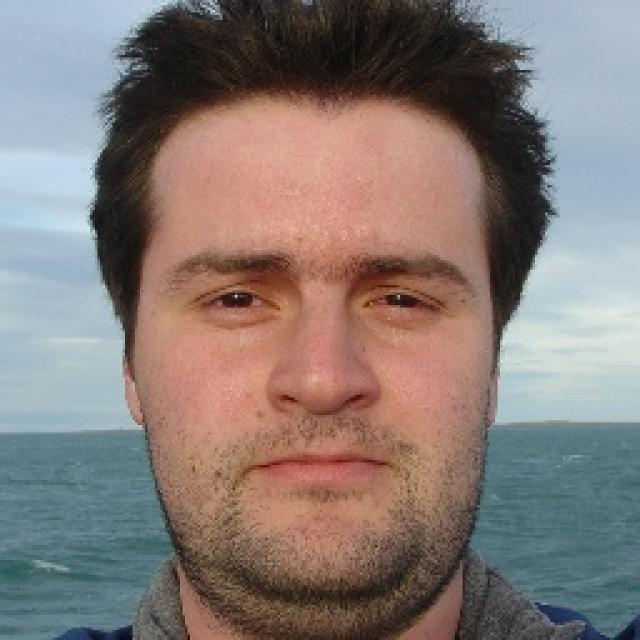earlobe: (120, 346, 148, 426), (478, 345, 501, 432)
